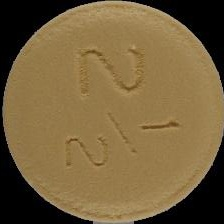0003-0893: (0, 0, 224, 224)
